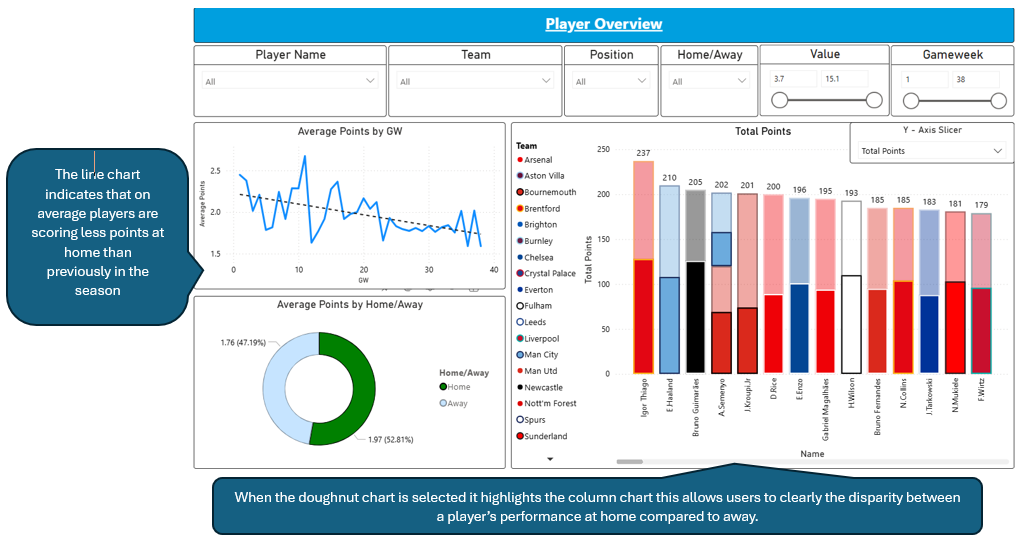

The dashboard page shown, as its layout file describes it:
{"tool":"powerbi","page":{"name":"Player Overview","canvas":[1280,720],"ordinal":1},"visuals":[{"type":"columnChart","fields":{"Y":["FPL_predicted_point.Sum_actual/predicted_points"],"Category":["FPL_predicted_point.Report_name"],"Series":["FPL_predicted_point.team"]},"box":[495.3,178.9,784.7,540.7],"z":0,"group":"g2"},{"type":"group","id":"g1","title":"Group 1","box":[0,58.2,1280,112.9],"z":1000},{"type":"slicer","title":"Team","fields":{"Values":["FPL_predicted_point.team"]},"box":[303.9,60,271.6,111.1],"z":1000,"group":"g1"},{"type":"textbox","box":[0,0,1280,55.6],"z":2000},{"type":"slicer","title":"Position","fields":{"Values":["FPL_predicted_point.position","FPL_predicted_point.name"]},"box":[578.2,60,147,110.3],"z":2000,"group":"g1"},{"type":"slicer","title":"Gameweek","fields":{"Values":["FPL_predicted_point.GW"]},"box":[1088.2,59.1,191.8,110.3],"z":3000,"group":"g1"},{"type":"donutChart","title":"Average Points by Home/Away","fields":{"Category":["FPL_predicted_point.Home/Away"],"Y":["Avg(FPL_predicted_point.Actual/Predicted Points)"]},"box":[0,449.7,486.1,270.4],"z":3000},{"type":"slicer","title":"Value","fields":{"Values":["FPL_predicted_point.value"]},"box":[882.9,58.2,202.6,111.1],"z":4000,"group":"g1"},{"type":"lineChart","title":"Average Points by GW","fields":{"Category":["FPL_predicted_point.GW"],"Y":["Avg(FPL_predicted_point.Actual/Predicted Points)"]},"box":[0,179.3,486.1,260.4],"z":4000},{"type":"slicer","title":"Home/Away","fields":{"Values":["FPL_predicted_point.Home/Away"]},"box":[727.8,59.1,152.4,111.1],"z":5000,"group":"g1"},{"type":"slicer","title":"Player Name","fields":{"Values":["FPL_predicted_point.name"]},"box":[0,60,301.2,111.1],"z":6000,"group":"g1"},{"type":"slicer","title":"Y - Axis Slicer","fields":{"Values":["Y-Axis.Y-Axis"]},"box":[1023.6,178.9,256.4,64.1],"z":6000,"group":"g2"},{"type":"group","id":"g2","title":"Group 2","box":[495.3,178.9,784.7,540.7],"z":6001}]}

Visuals, with their boxes in screenshot pixels (x1, y1, x2, y2), scaled from the page's 1280x720 canvas onto the 1021x560 screenshot:
columnChart - FPL_predicted_point.Sum_actual/predicted_points x FPL_predicted_point.Report_name: select_region(395, 139, 1020, 559)
"Group 1" group: select_region(0, 45, 1020, 133)
"Team" slicer: select_region(242, 47, 459, 133)
textbox: select_region(0, 0, 1020, 43)
"Position" slicer: select_region(461, 47, 578, 132)
"Gameweek" slicer: select_region(868, 46, 1020, 132)
"Average Points by Home/Away" donutChart: select_region(0, 350, 388, 559)
"Value" slicer: select_region(704, 45, 866, 132)
"Average Points by GW" lineChart: select_region(0, 139, 388, 342)
"Home/Away" slicer: select_region(581, 46, 702, 132)
"Player Name" slicer: select_region(0, 47, 240, 133)
"Y - Axis Slicer" slicer: select_region(816, 139, 1020, 189)
"Group 2" group: select_region(395, 139, 1020, 559)
